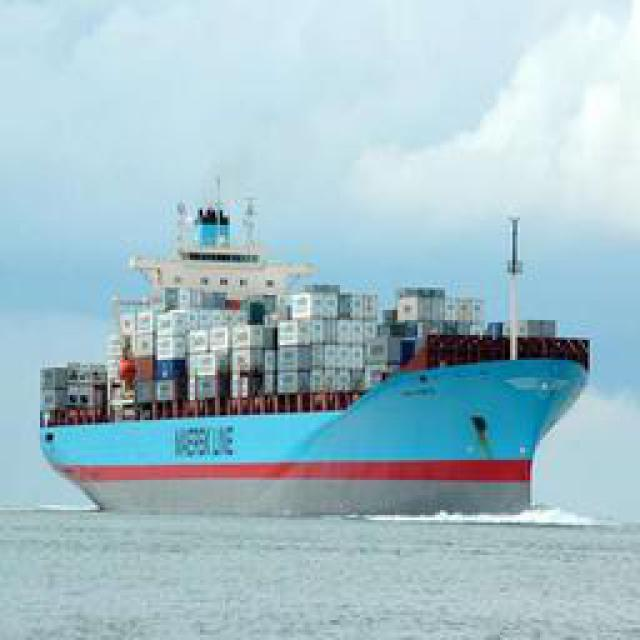Ship: (32, 170, 600, 518)
